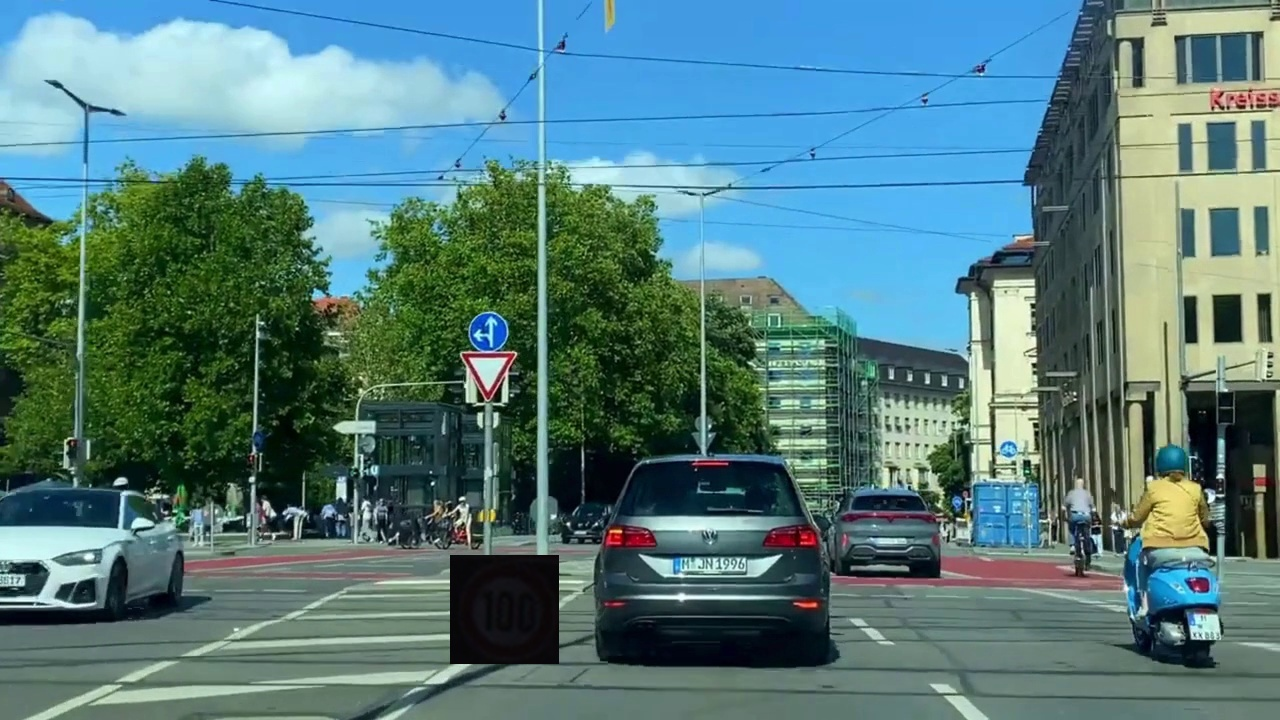Speed 100: (450, 555, 559, 664)
